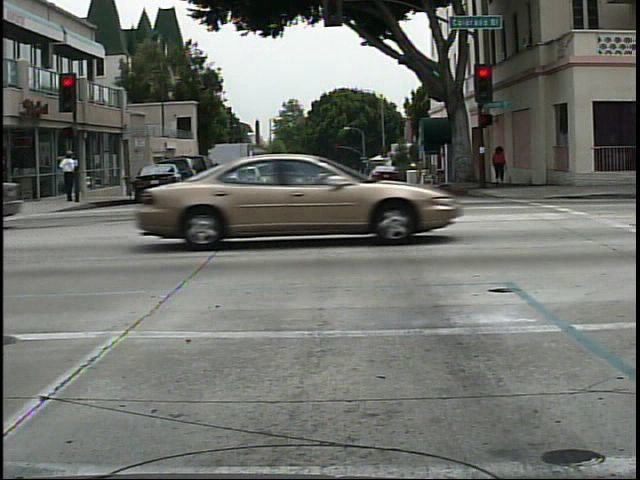person: (59, 143, 78, 205), (491, 142, 508, 184)
